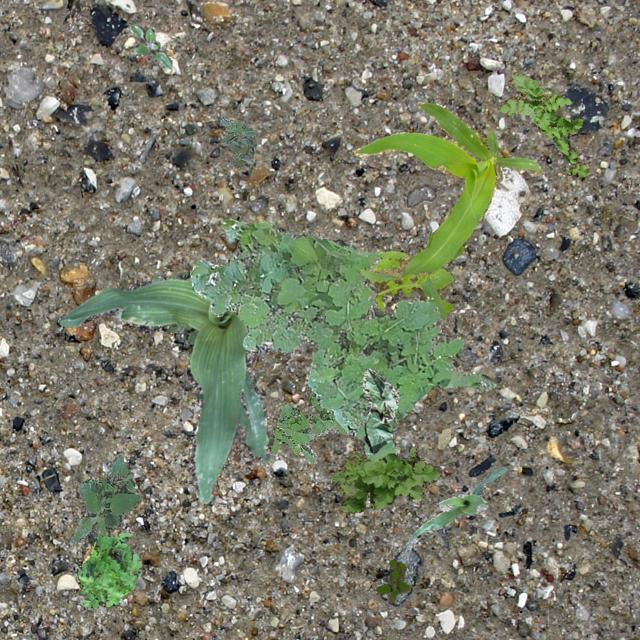crop: (57, 270, 270, 502), (352, 100, 540, 280), (404, 466, 506, 548), (362, 367, 398, 452)
weed: (188, 218, 494, 460), (496, 72, 590, 176), (330, 446, 440, 512), (68, 454, 140, 542), (270, 390, 348, 462), (370, 250, 452, 318), (76, 532, 142, 608), (218, 114, 256, 168), (128, 22, 172, 68), (374, 558, 408, 602)
